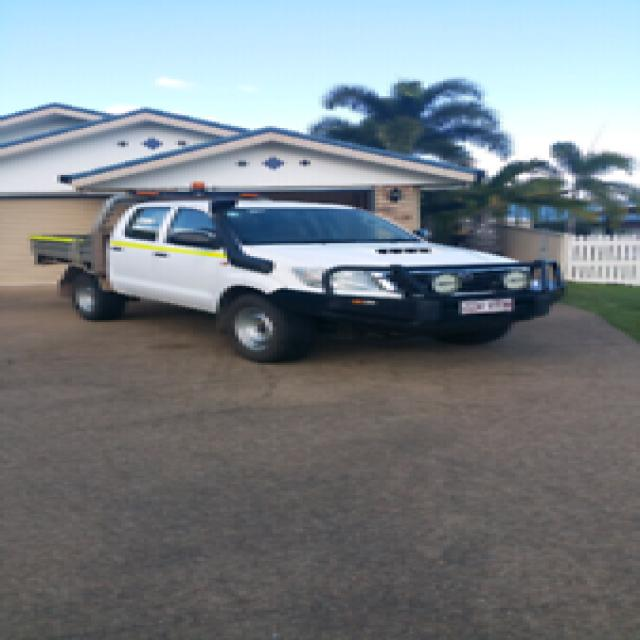light_vehicle: (22, 181, 594, 363)
